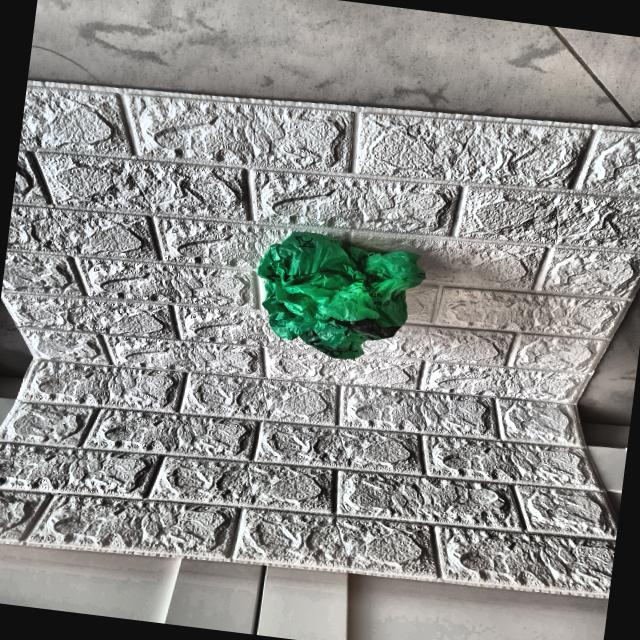plastic bag: (242, 220, 426, 368)
